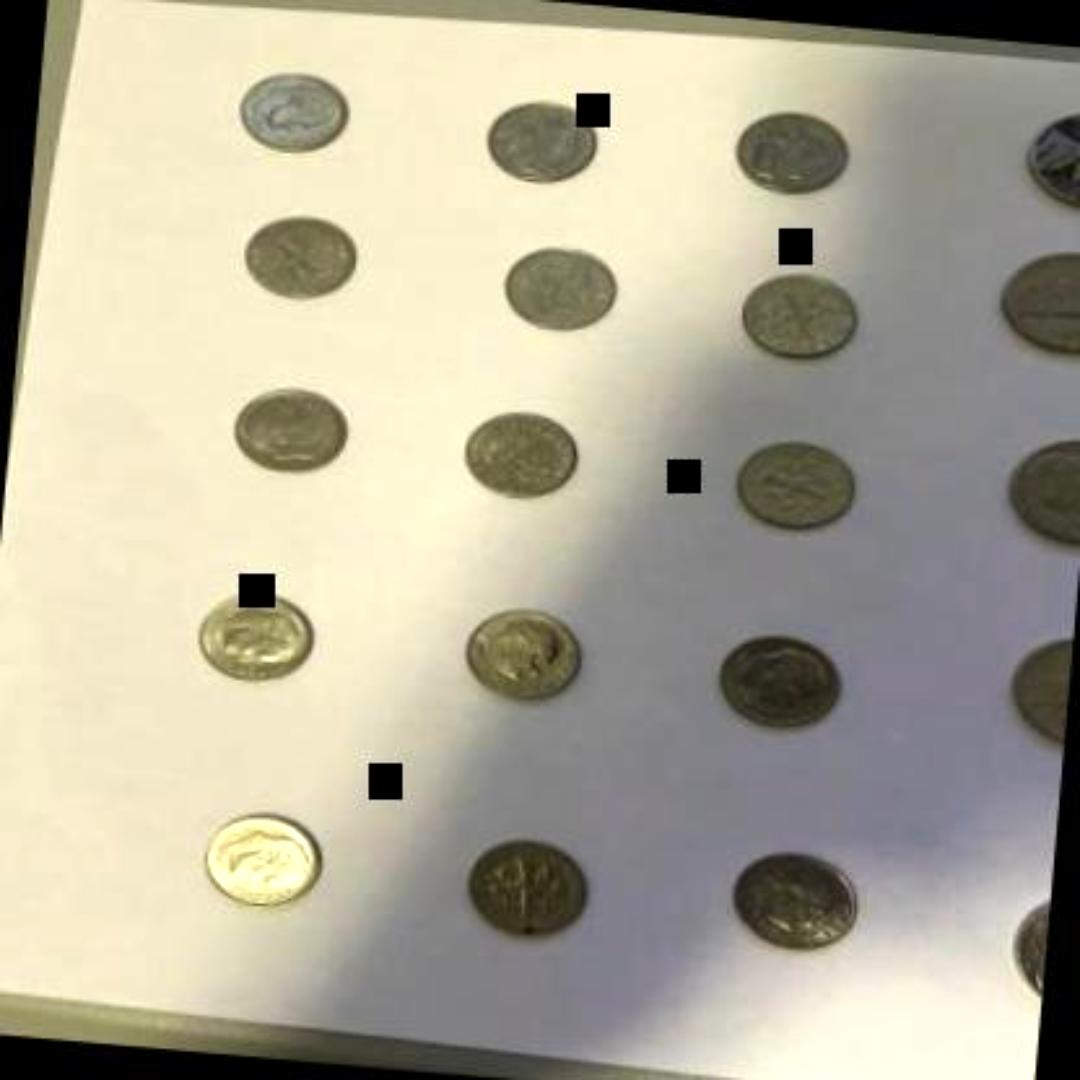Dime: (711, 840, 866, 972), (446, 832, 602, 948), (188, 800, 334, 918), (701, 620, 843, 740), (184, 579, 320, 688), (725, 430, 862, 536), (726, 260, 862, 363), (224, 375, 352, 484), (458, 598, 586, 706), (494, 235, 624, 338), (454, 402, 580, 504), (476, 91, 604, 189), (235, 204, 357, 304), (727, 99, 849, 197), (230, 60, 352, 156)
Nickel: (986, 241, 1080, 363), (1000, 618, 1074, 768), (992, 431, 1080, 555), (1012, 101, 1080, 207)
